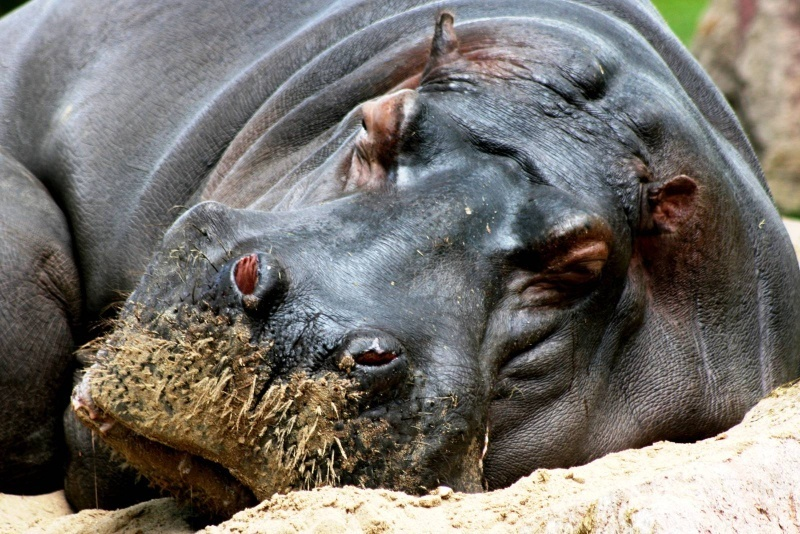hipopotamo: (11, 1, 797, 521)
